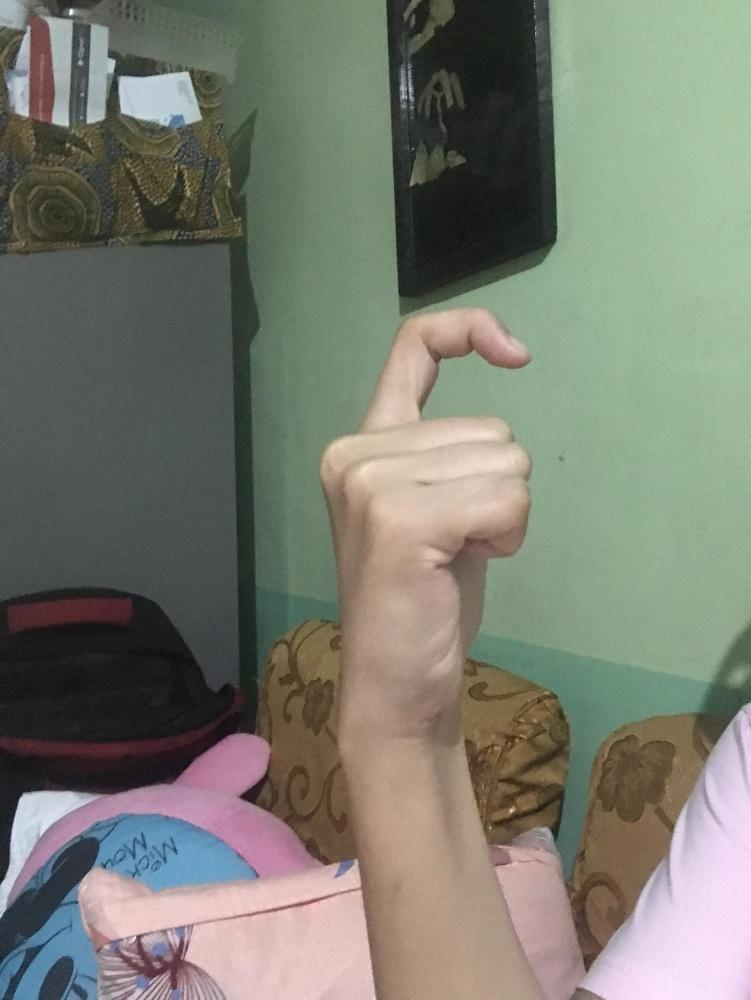x: (315, 298, 543, 713)
